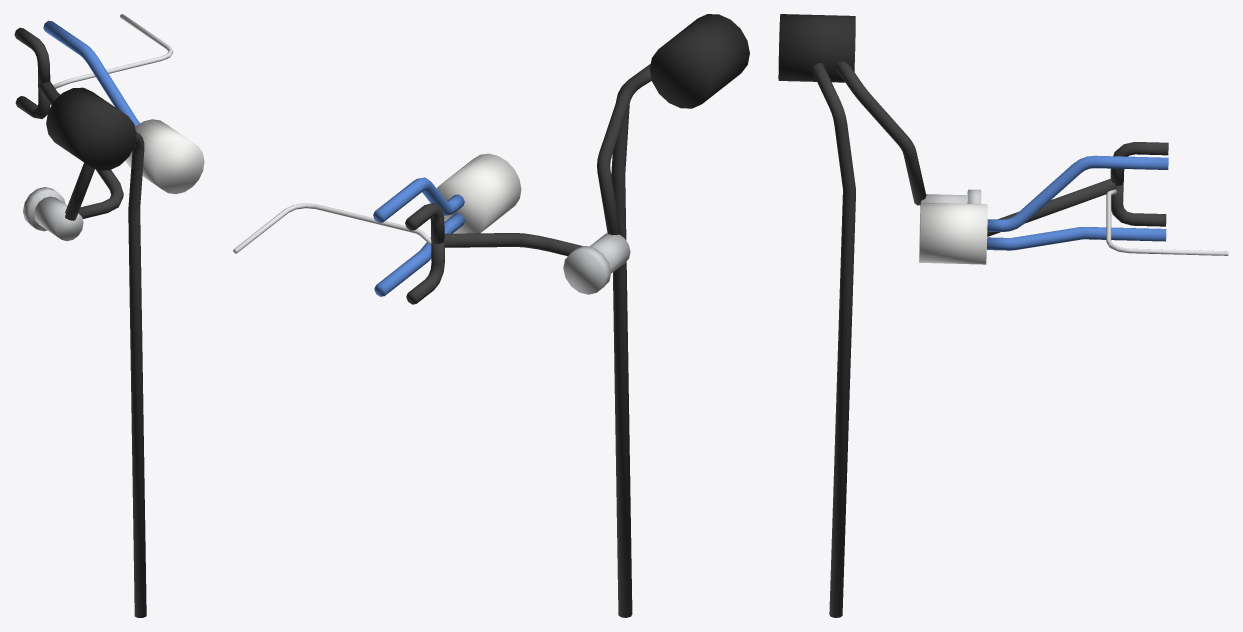
The model's file is VACUUM.glb.
The picture shows the model from 3 angles, left to right: view 1: azimuth 30°, elevation 25°; view 2: azimuth 150°, elevation 25°; view 3: azimuth 270°, elevation 25°; orthographic projection. The views are drawn at different scales.
Parts seen in each view (by area): view 1: VACUUM.overboard_vent, VACUUM.engine_driven_pump, VACUUM.air_filter, VACUUM.hose_relief_valve_to_gyros, VACUUM.relief_valve, VACUUM.hose_filter_to_gyros, VACUUM.line_suction_gauge, VACUUM.hose_pump_to_relief_valve; view 2: VACUUM.overboard_vent, VACUUM.engine_driven_pump, VACUUM.air_filter, VACUUM.hose_relief_valve_to_gyros, VACUUM.hose_filter_to_gyros, VACUUM.relief_valve, VACUUM.hose_pump_to_relief_valve, VACUUM.line_suction_gauge; view 3: VACUUM.overboard_vent, VACUUM.hose_filter_to_gyros, VACUUM.engine_driven_pump, VACUUM.air_filter, VACUUM.hose_relief_valve_to_gyros, VACUUM.hose_pump_to_relief_valve, VACUUM.line_suction_gauge, VACUUM.relief_valve.
Boxes of the visible parts, x1,y1,x2,y2 form: VACUUM.overboard_vent: (128, 131, 146, 617); VACUUM.engine_driven_pump: (46, 87, 136, 170); VACUUM.air_filter: (125, 119, 204, 194); VACUUM.hose_relief_valve_to_gyros: (14, 27, 123, 218); VACUUM.relief_valve: (23, 187, 83, 241); VACUUM.hose_filter_to_gyros: (43, 20, 139, 126); VACUUM.line_suction_gauge: (53, 14, 173, 88); VACUUM.hose_pump_to_relief_valve: (65, 162, 94, 220); VACUUM.overboard_vent: (611, 63, 650, 617); VACUUM.engine_driven_pump: (649, 14, 749, 108); VACUUM.air_filter: (437, 153, 521, 233); VACUUM.hose_relief_valve_to_gyros: (405, 202, 582, 304); VACUUM.hose_filter_to_gyros: (373, 177, 464, 296); VACUUM.relief_valve: (563, 233, 630, 294); VACUUM.hose_pump_to_relief_valve: (597, 66, 651, 235); VACUUM.line_suction_gauge: (233, 203, 431, 253); VACUUM.overboard_vent: (811, 63, 855, 617); VACUUM.hose_filter_to_gyros: (987, 155, 1168, 250); VACUUM.engine_driven_pump: (778, 14, 855, 82); VACUUM.air_filter: (919, 202, 987, 264); VACUUM.hose_relief_valve_to_gyros: (987, 142, 1168, 236); VACUUM.hose_pump_to_relief_valve: (835, 61, 926, 205); VACUUM.line_suction_gauge: (1106, 189, 1228, 255); VACUUM.relief_valve: (921, 189, 981, 204).
Bounding box in the file's own units: 0.371 × 0.7484 × 0.5372.
